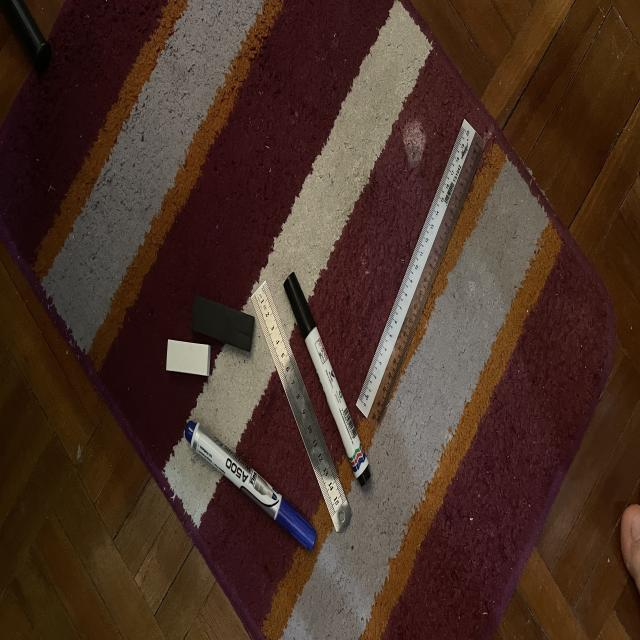eraser: (191, 295, 254, 351), (166, 339, 211, 376)
marker: (284, 272, 370, 485), (185, 420, 316, 550)
ruler: (357, 120, 484, 426), (251, 281, 351, 532)
